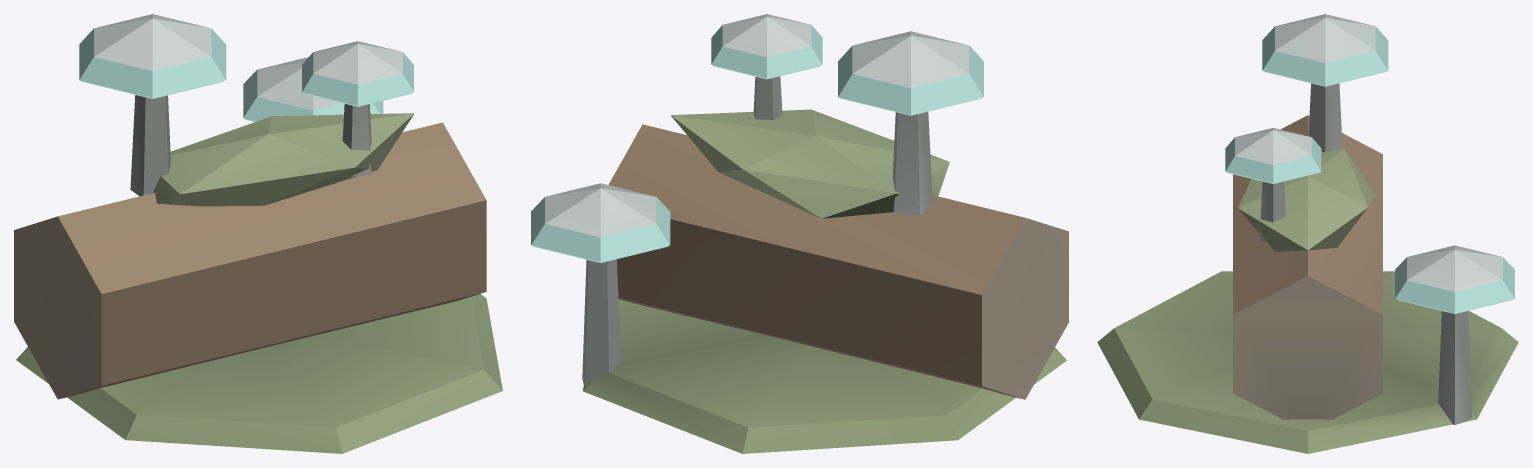
The model's file is mushroom_glow_low.glb.
3 renders of one model, left to right at view 1: azimuth 30°, elevation 25°; view 2: azimuth 150°, elevation 25°; view 3: azimuth 270°, elevation 25°, orthographic. The views are drawn at different scales.
Bounding box in the file's own units: 0.245 × 0.192 × 0.2437.
